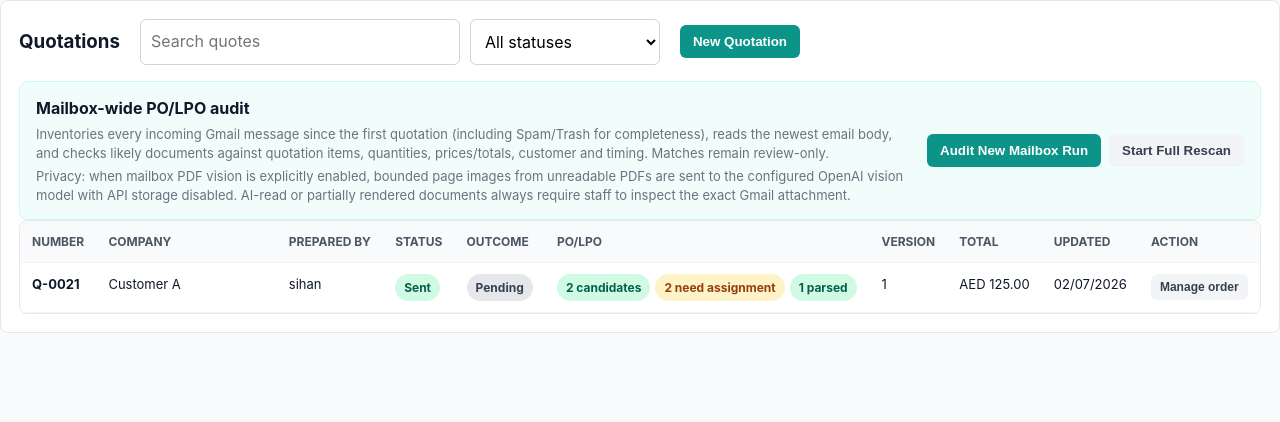
QuotationList PO/LPO evidence summaries › repairs one unreadable PDF per request before reconciling the completed inventory
This screenshot has width=1280, height=422.
Expected: the text "Q-0021" is shown, x1=32 y1=276 x2=80 y2=292
Step 1. Click the button "Audit New Mailbox Run" → click(1014, 150), box x1=927 y1=134 x2=1101 y2=167
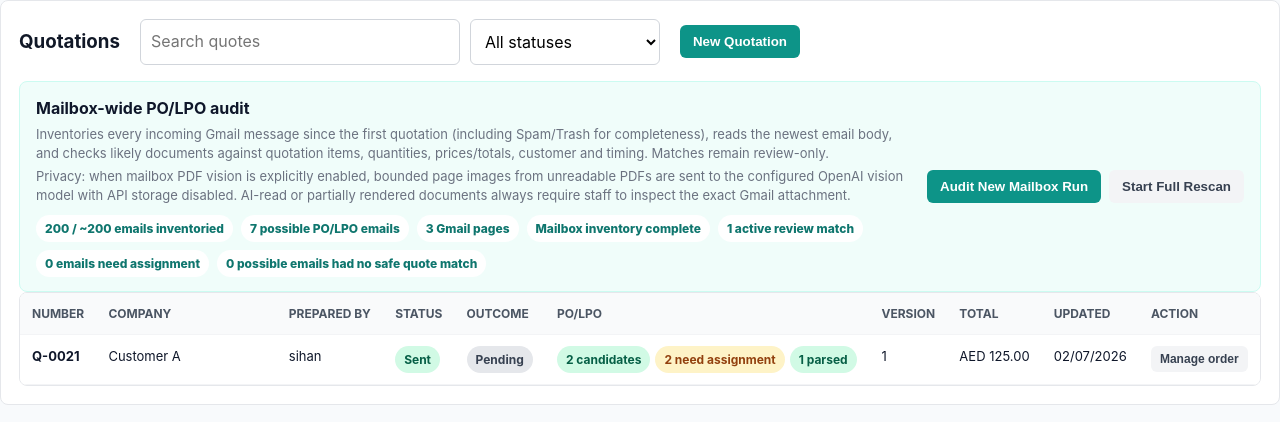
Result: the text "1 active review match" is shown at x1=718 y1=215 x2=863 y2=242
